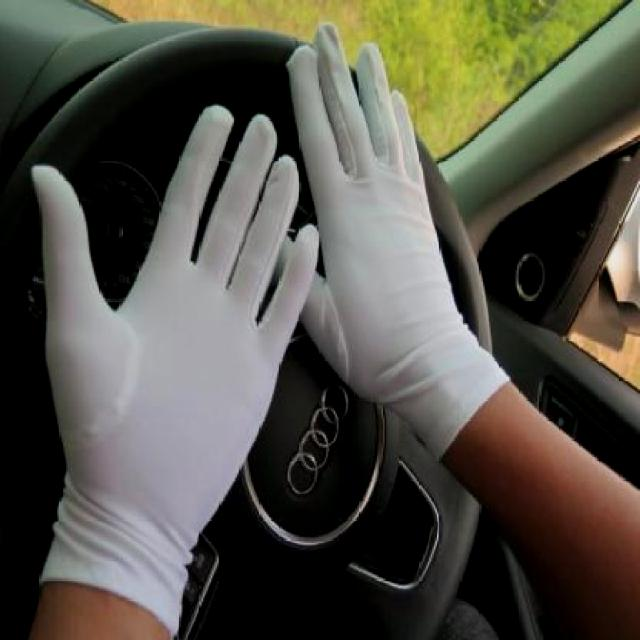hand_glove: (28, 107, 318, 536), (273, 22, 452, 387)
